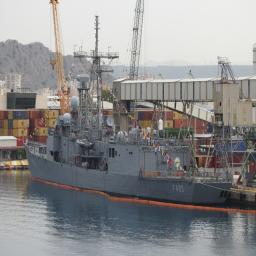Fragata: (23, 6, 236, 211)
